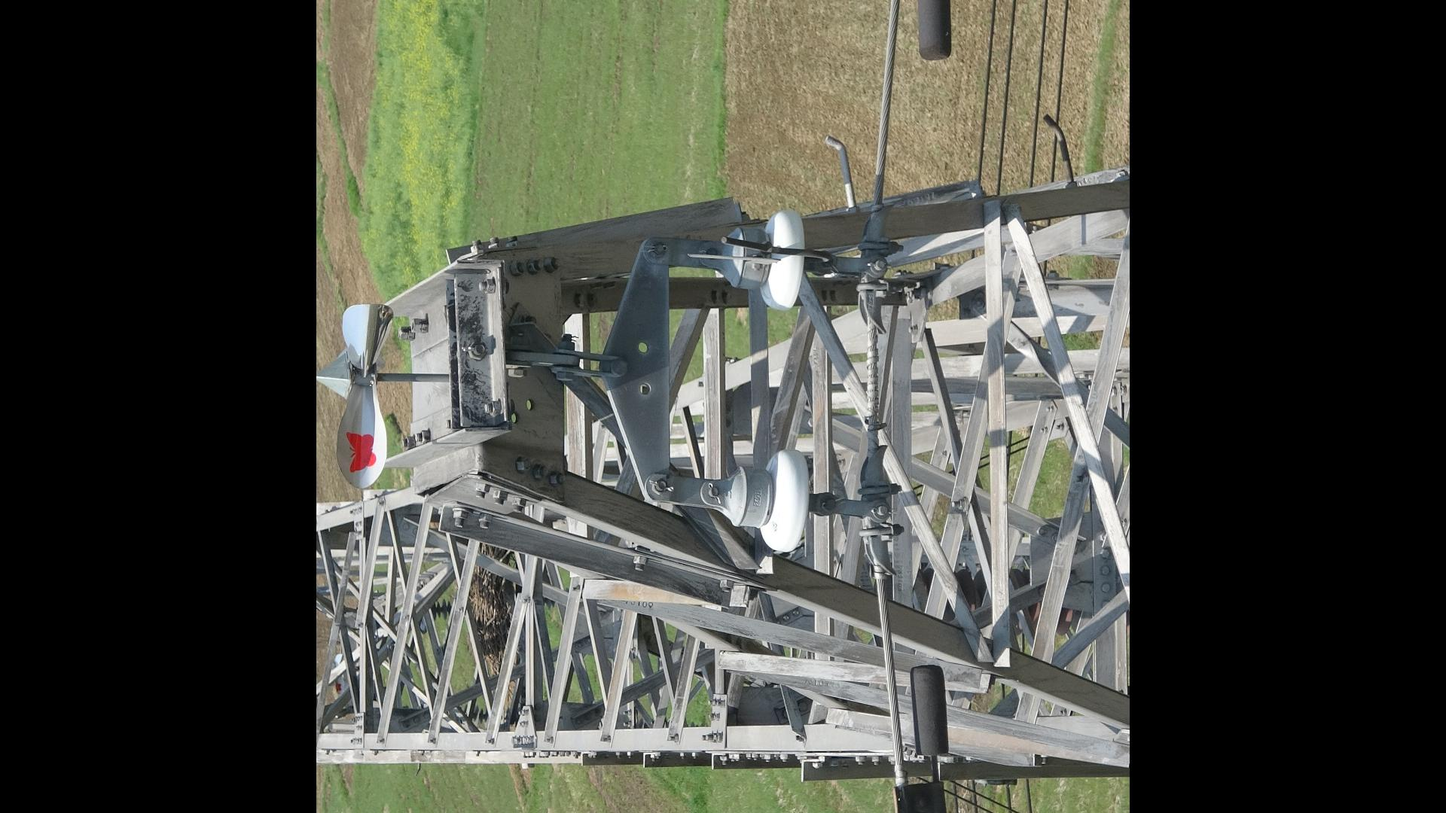nest: (467, 566, 518, 674)
